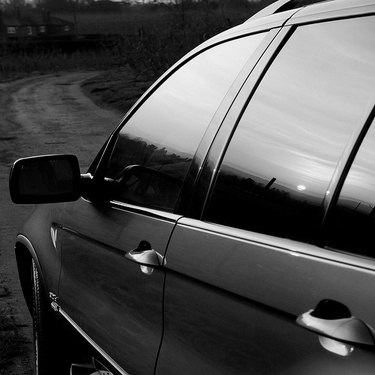car: (13, 1, 373, 363)
